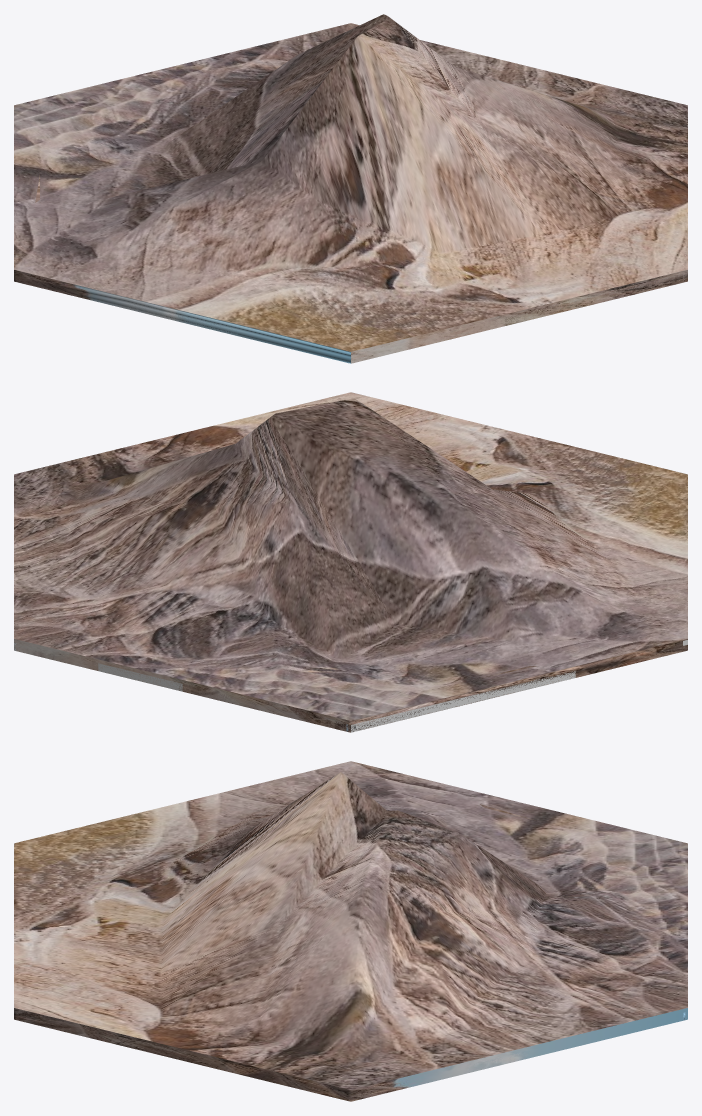
Rendered from mountain1.glb.
3 views of the same model, one above another, from view 1: azimuth 30°, elevation 25°; view 2: azimuth 150°, elevation 25°; view 3: azimuth 270°, elevation 25° (orthographic).
Parts seen in each view (by area): view 1: optimized; view 2: optimized; view 3: optimized.
Boxes of the visible parts, x1,y1,x2,y2 form: optimized: (14, 14, 687, 363); optimized: (14, 392, 687, 732); optimized: (14, 761, 687, 1101).
Size of the model in its own units: 4.5 by 1.12 by 3.9.
Materials: 2 (1 with a texture image).
